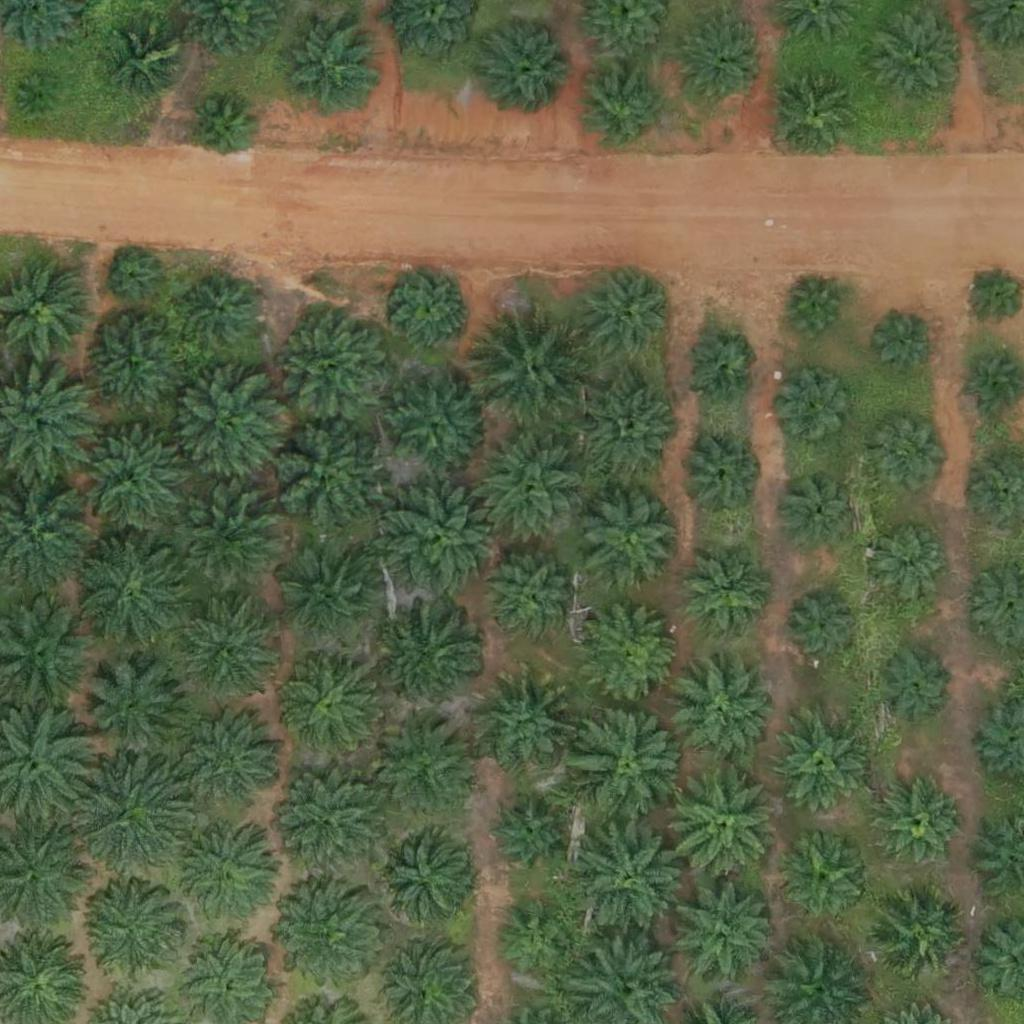Kelapa_Sawit: (72, 529, 197, 655), (67, 754, 192, 880), (272, 302, 397, 428), (260, 413, 385, 539), (265, 760, 390, 886), (380, 477, 505, 603), (471, 303, 596, 429), (467, 426, 592, 552), (569, 702, 694, 828), (569, 815, 694, 941), (661, 762, 786, 888), (68, 421, 193, 546), (77, 655, 190, 768), (176, 709, 289, 822), (268, 884, 381, 997), (164, 817, 277, 930), (170, 370, 282, 483), (171, 482, 283, 595), (281, 16, 381, 117), (865, 2, 965, 103), (81, 315, 181, 416), (280, 549, 380, 650), (281, 650, 381, 751), (388, 605, 488, 706), (376, 710, 476, 811), (479, 673, 579, 774), (372, 827, 472, 928), (80, 881, 180, 982), (479, 16, 579, 116), (386, 374, 486, 474), (576, 266, 676, 366), (580, 382, 680, 482), (580, 489, 680, 589), (582, 606, 682, 706), (673, 662, 773, 762), (767, 713, 867, 813), (870, 889, 970, 989), (675, 881, 775, 981), (680, 18, 768, 106), (773, 68, 861, 156), (183, 605, 271, 693), (682, 552, 770, 640), (780, 837, 868, 925), (677, 431, 764, 519), (581, 65, 668, 153), (488, 556, 575, 644), (876, 781, 963, 869), (871, 522, 946, 598), (781, 470, 856, 546), (786, 589, 861, 665), (875, 645, 950, 721), (393, 271, 468, 347), (681, 331, 756, 407), (779, 373, 854, 448), (872, 415, 947, 490), (497, 902, 572, 977), (112, 25, 187, 100), (184, 274, 259, 349), (490, 799, 565, 874), (191, 98, 254, 161), (784, 279, 846, 342), (874, 312, 936, 375), (109, 253, 159, 303), (21, 74, 59, 112)
